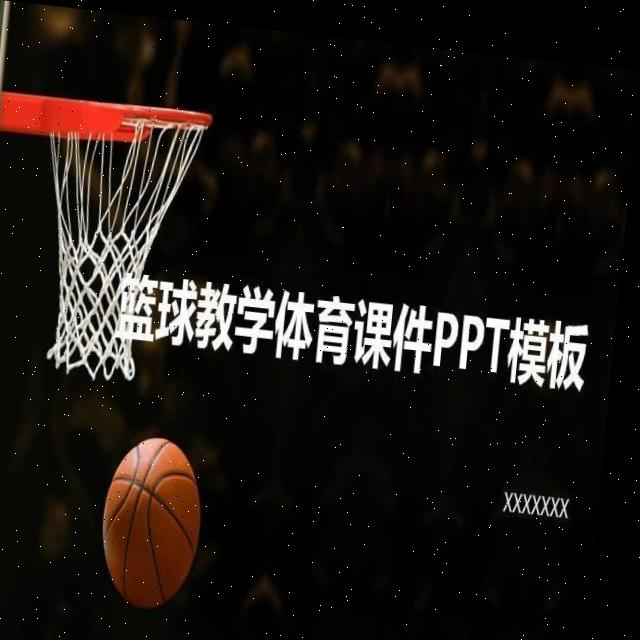Basketball: (97, 433, 209, 613)
